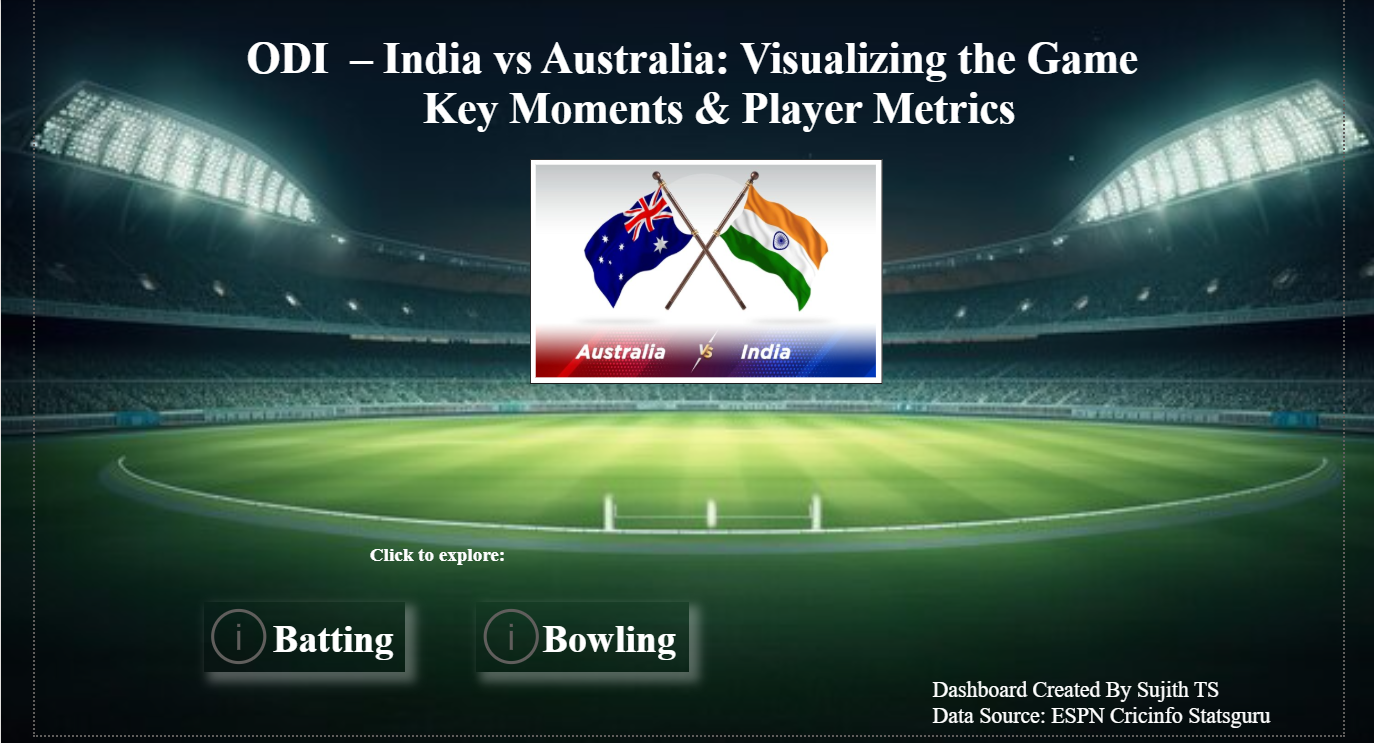

What the dashboard file says about the page in this screenshot:
{"tool":"powerbi","page":{"name":"Cover image","canvas":[1280,720],"ordinal":0},"visuals":[{"type":"textbox","box":[118.6,28.1,1059,132.1],"z":0},{"type":"image","box":[484.2,156.5,344.8,220.1],"z":1000},{"type":"textbox","box":[873.1,659.1,407.2,61.1],"z":2000},{"type":"textbox","box":[303.3,528.3,181,45.2],"z":3000},{"type":"textbox","box":[211.6,599.2,160.2,59.9],"z":4000},{"type":"actionButton","box":[165.1,589.4,196.9,68.5],"z":5000},{"type":"actionButton","box":[431.7,589.4,207.9,68.5],"z":6000},{"type":"textbox","box":[13.5,156.5,181,58.7],"z":7000},{"type":"textbox","box":[484.2,599.2,155.3,62.4],"z":8000}]}

Visuals, with their boxes on the page's 1280x720 design canvas (x1, y1, x2, y2). These are canvas units, not pixel positions in the 1374x743 screenshot, which may show the page scaled, cropped or inside an application window:
textbox: (left=119, top=28, right=1178, bottom=160)
image: (left=484, top=156, right=829, bottom=377)
textbox: (left=873, top=659, right=1280, bottom=720)
textbox: (left=303, top=528, right=484, bottom=574)
textbox: (left=212, top=599, right=372, bottom=659)
actionButton: (left=165, top=589, right=362, bottom=658)
actionButton: (left=432, top=589, right=640, bottom=658)
textbox: (left=14, top=156, right=194, bottom=215)
textbox: (left=484, top=599, right=640, bottom=662)
